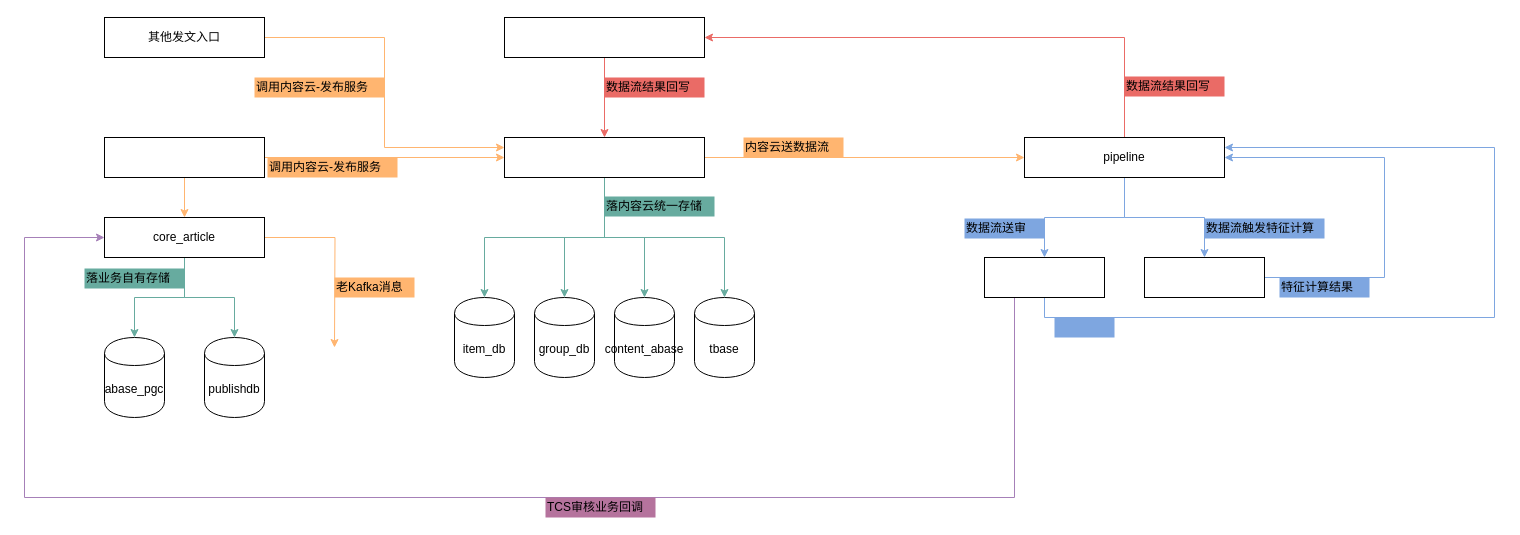
Image size: 1520x535. Some labels were removed from this diagram. Each missing label, with the centre of its shape:
"feature_proxy" goes at point 1204,277.
"goarticle" goes at point 184,157.
"pipeline_callback" goes at point 604,37.
"publish_item" goes at point 604,157.
"review" goes at point 1044,277.
"审核结果" goes at point 1084,327.
